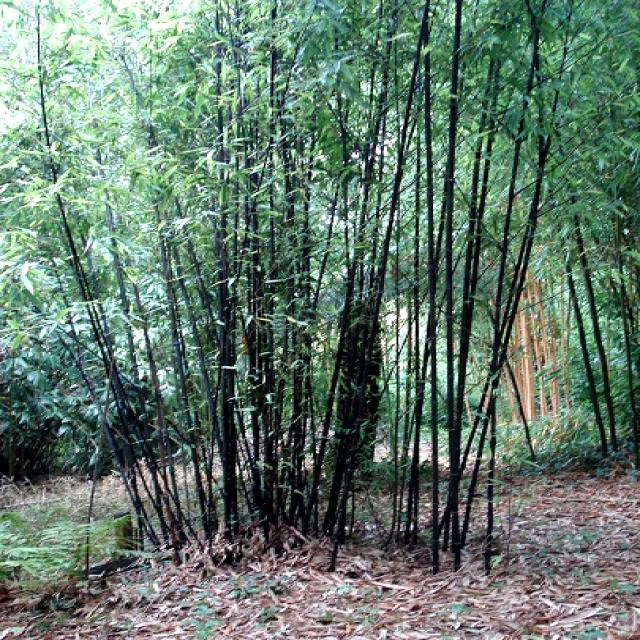Clumping: (73, 12, 526, 586)
